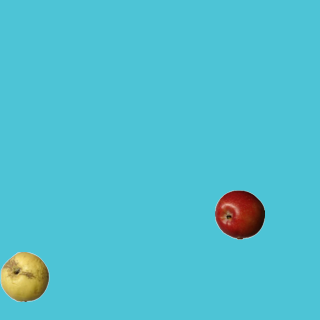Apple Braeburn: (214, 189, 264, 239)
Apple Golden 1: (0, 251, 49, 301)
